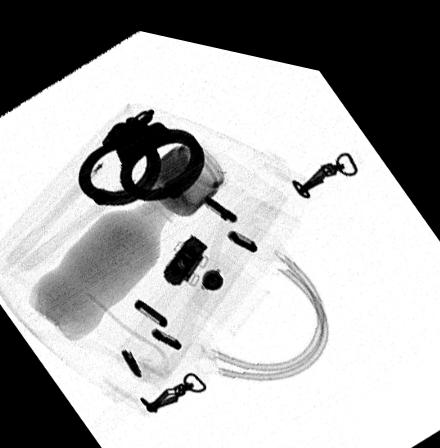HandCuffs: (77, 100, 207, 201)
